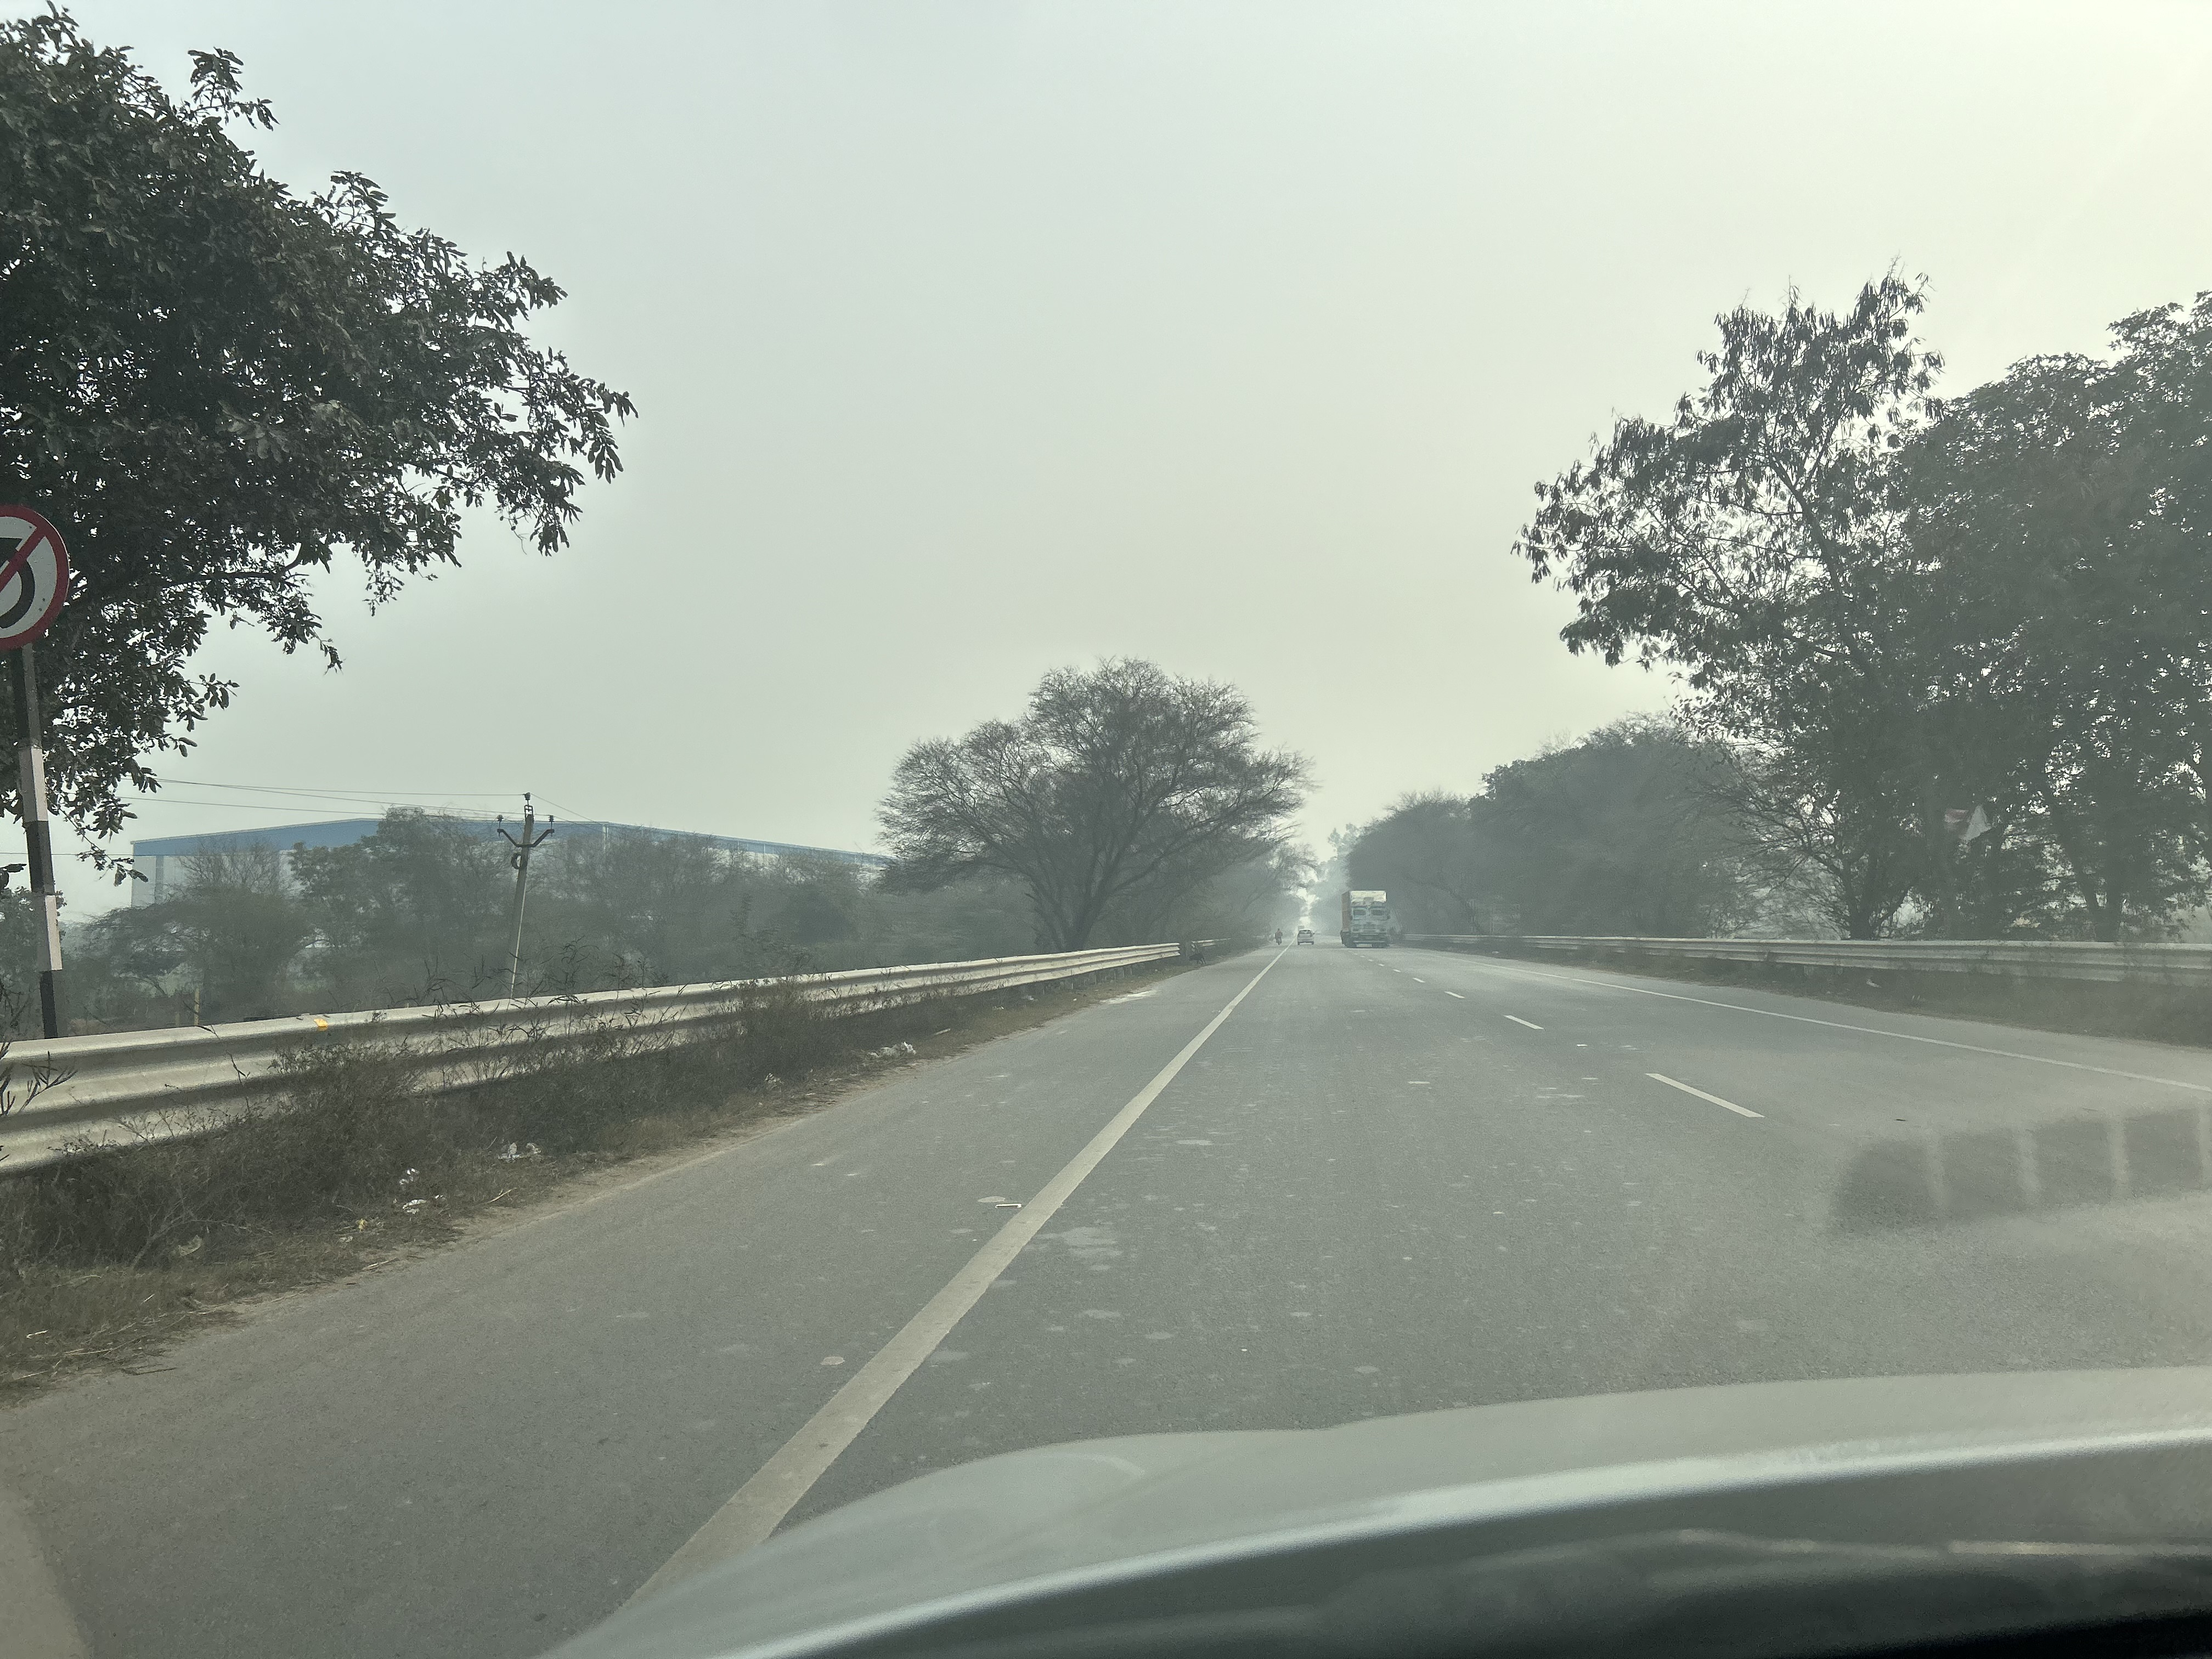Mandatory: (0, 479, 81, 670)
